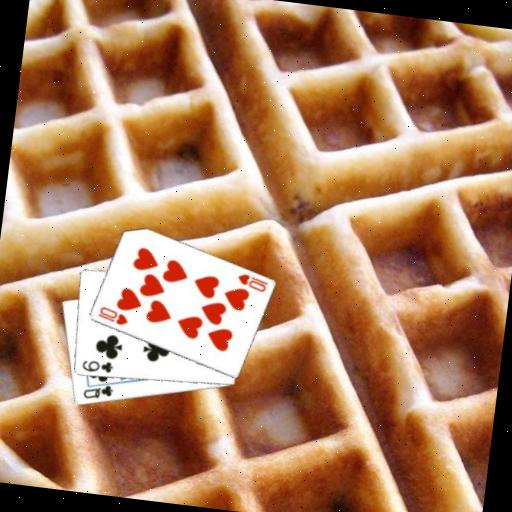10H: (94, 303, 131, 328), (233, 270, 270, 295)
6C: (79, 356, 116, 377)
QC: (80, 379, 116, 403)
